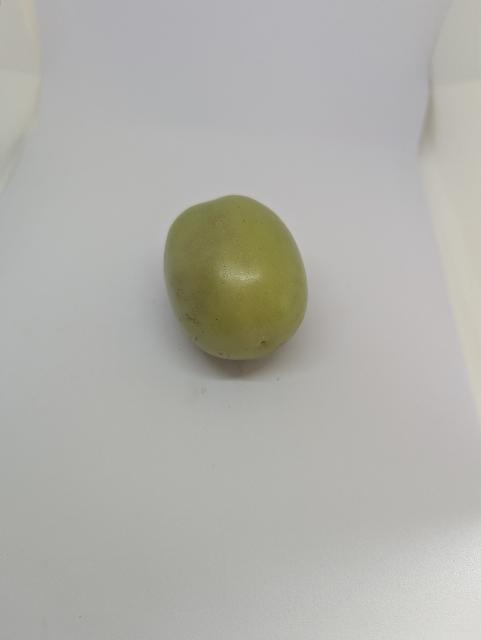green: (158, 192, 318, 366)
